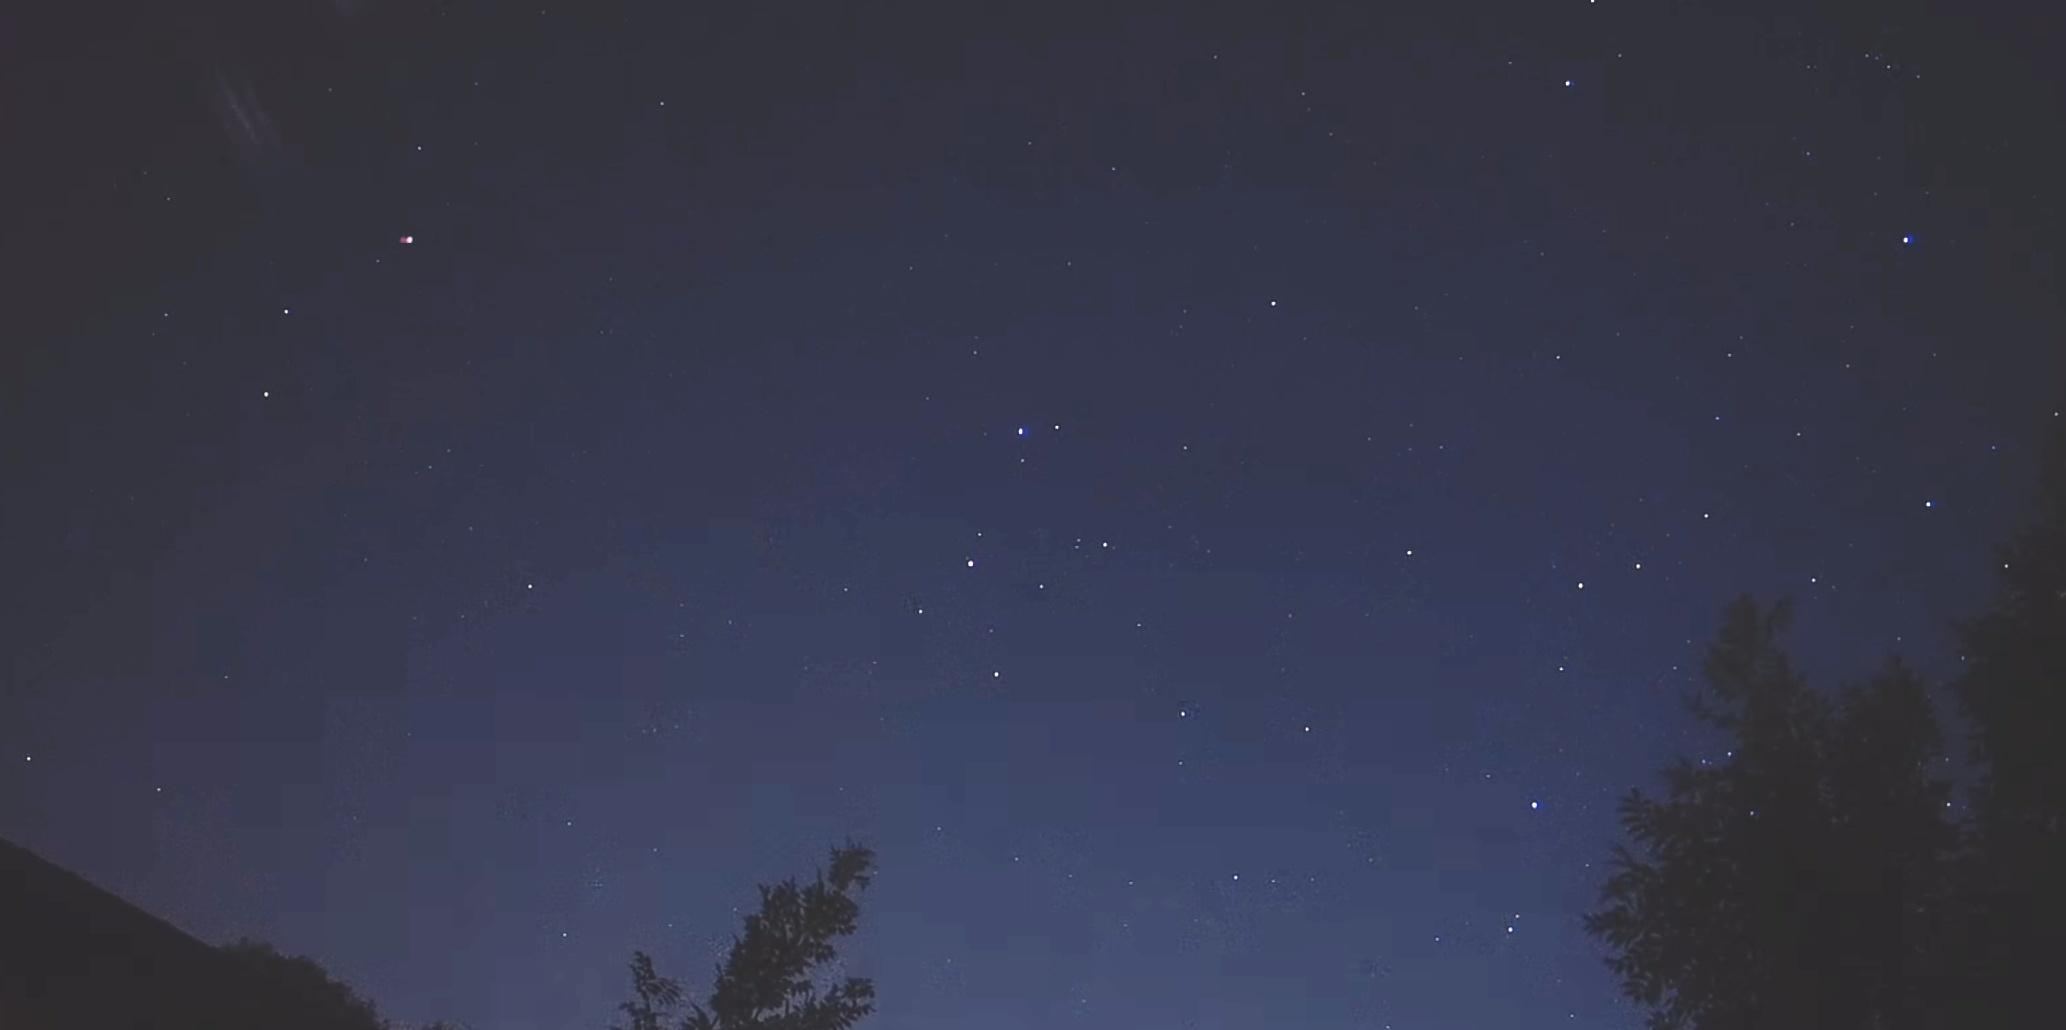Plane: (383, 227, 435, 250)
